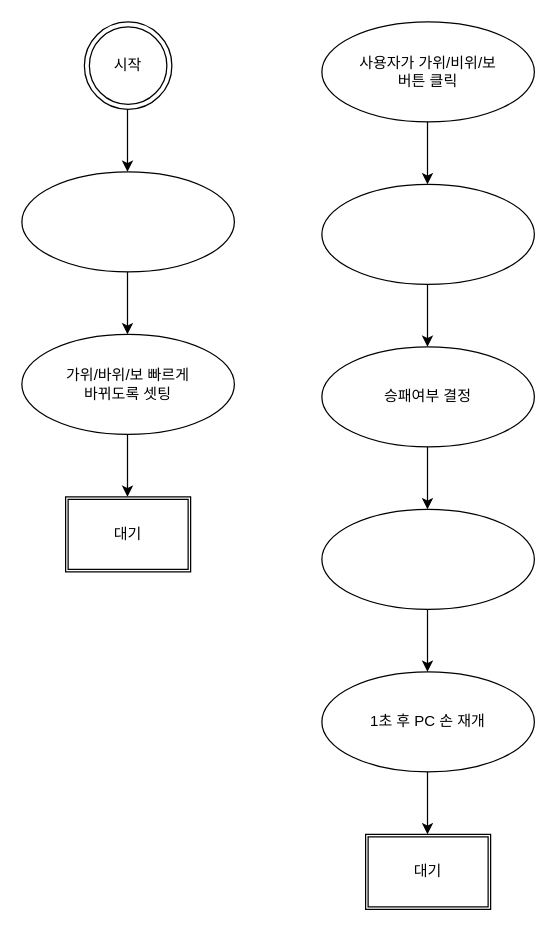
This 556x931 diagram has some shape labels left out. Here are the shapes that lost their labels. From the top down, the centre of each, then its label:
the point at 127,221: 결과 변수 셋팅
the point at 427,233: PC 손 멈추기 그 순간 PC의 가위/바위/보 변수에 있는 값과 클릭한 값 비교
the point at 427,558: 결과 변수에 반영
